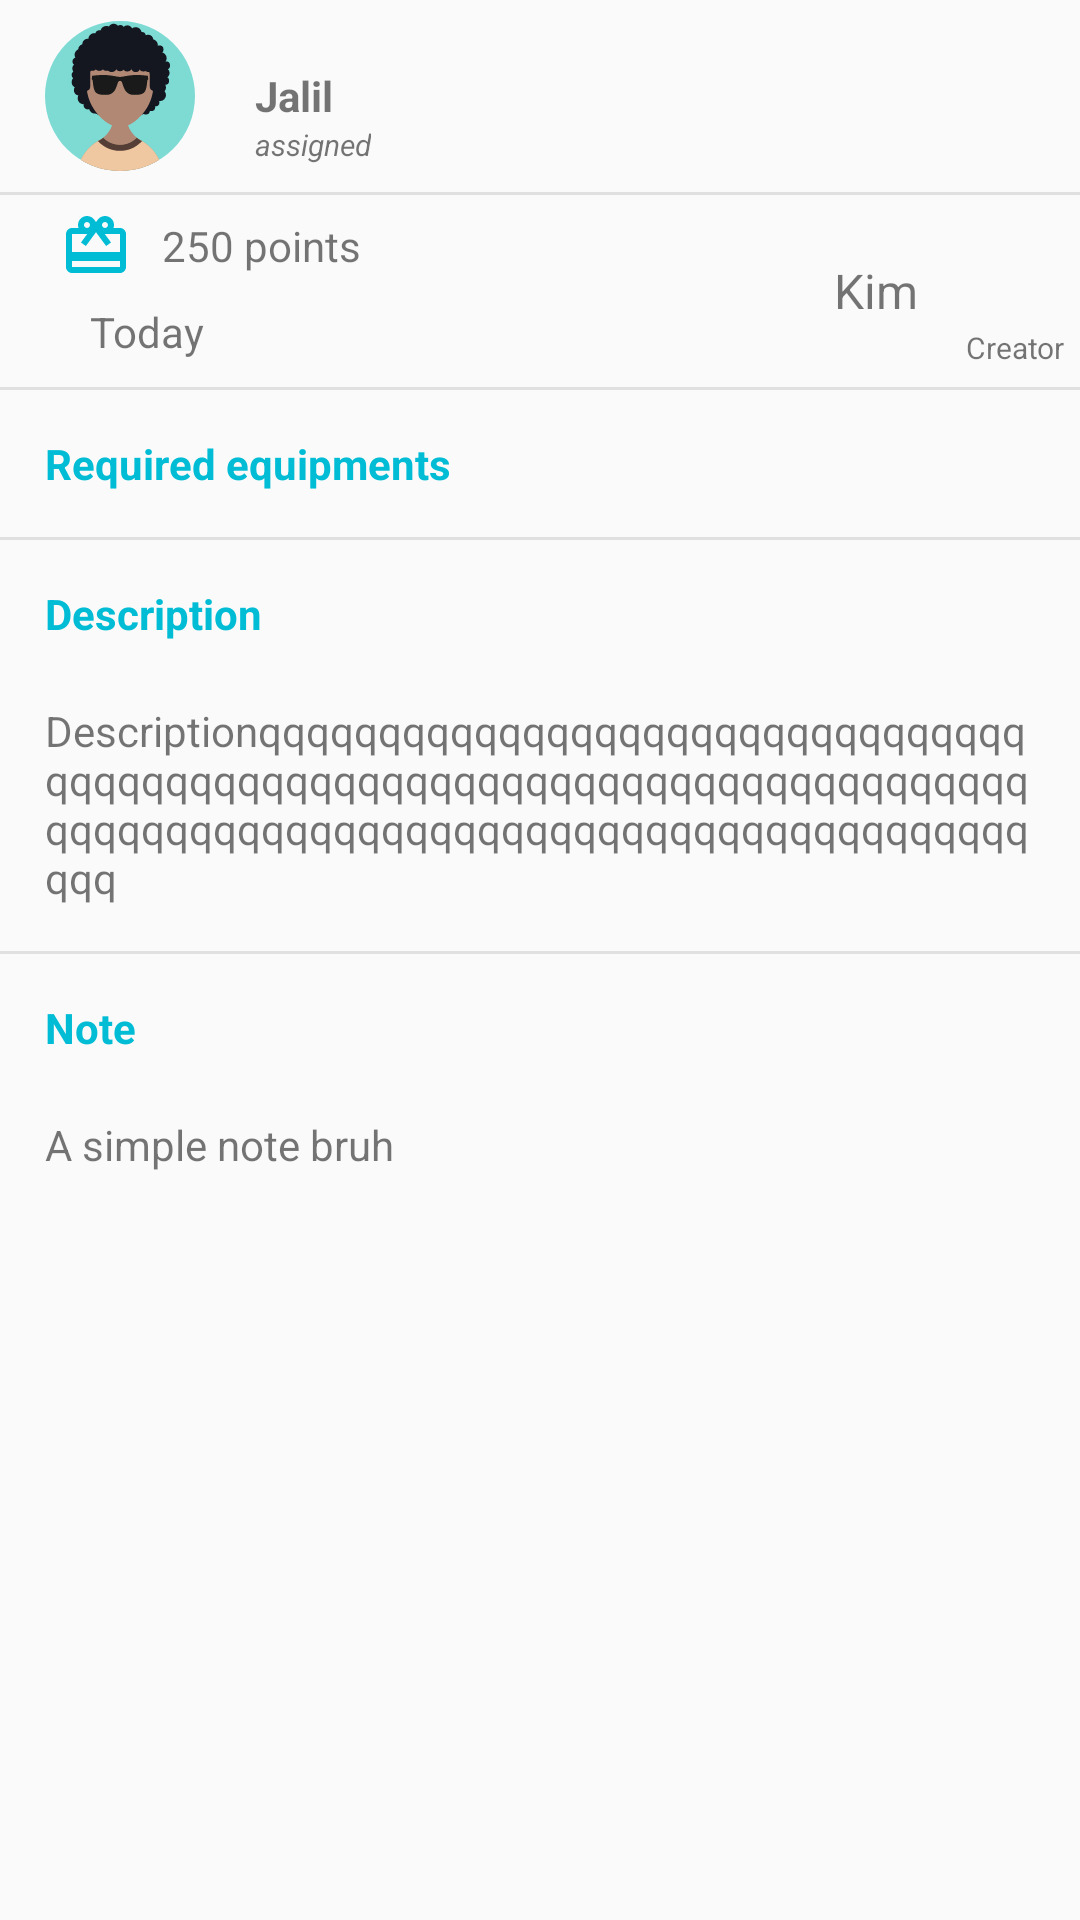

Named icons in this screenshot (1080 × 1920) and their bounding boxes, (x1, y1, x2, y2):
avatar: (45, 21, 195, 171)
card giftcard: (66, 216, 126, 273)
